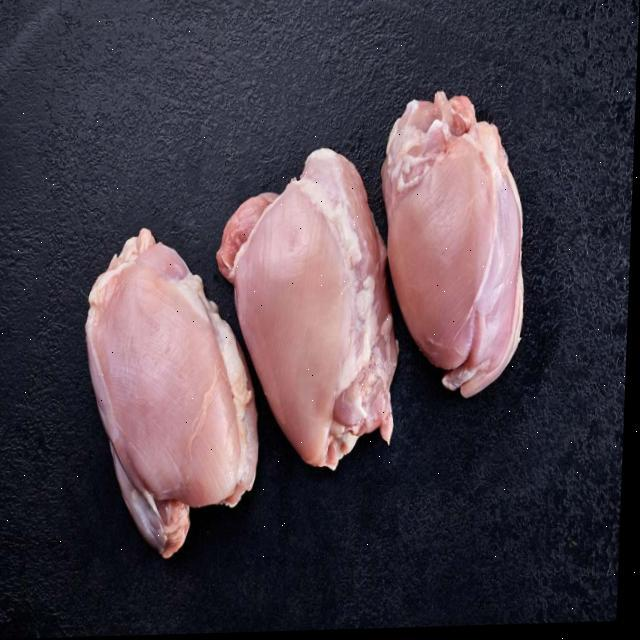thigh: (58, 232, 283, 553), (217, 142, 412, 478), (368, 86, 566, 410)
